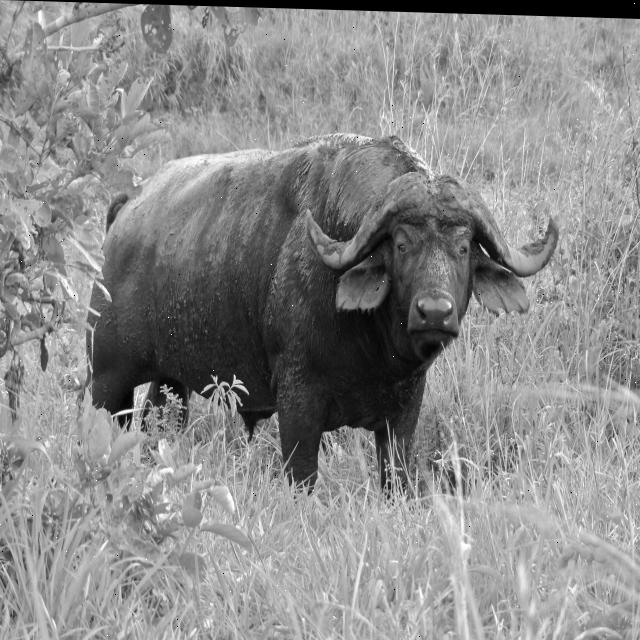Buffalo: (84, 129, 558, 501)
